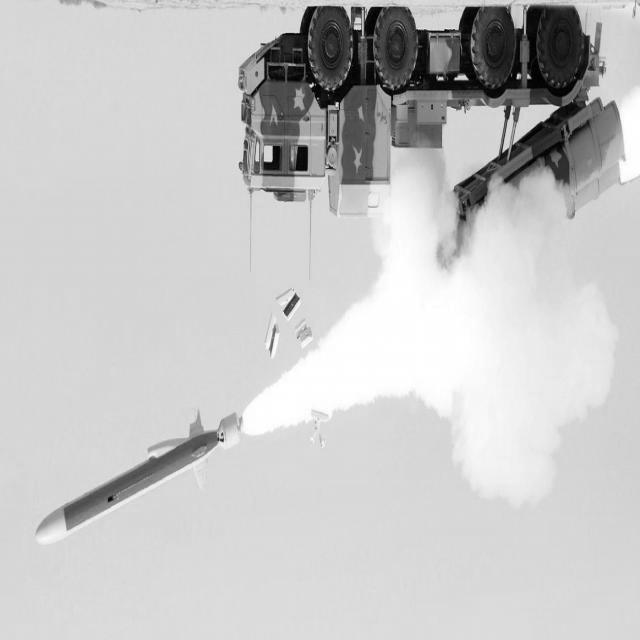missile: (30, 399, 255, 555)
